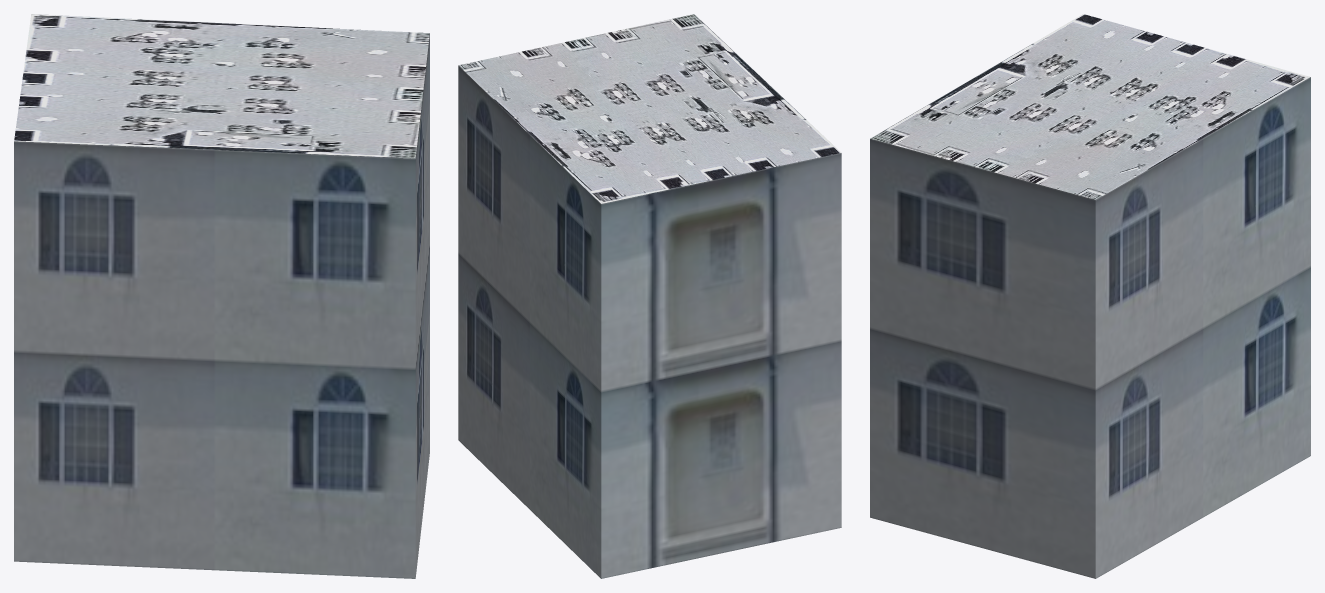
File: ResTex__2395.fbx
3 renders of one model, left to right at view 1: azimuth 30°, elevation 25°; view 2: azimuth 150°, elevation 25°; view 3: azimuth 270°, elevation 25°, orthographic. The views are drawn at different scales.
Visible parts, largest first — view 1: CityEngineMaterial_17_m, CityEngineMaterial_4_m; view 2: CityEngineMaterial_17_m, CityEngineMaterial_4_m; view 3: CityEngineMaterial_17_m, CityEngineMaterial_4_m.
Boxes of the visible parts, box(x1,y1,x2,y2) form: CityEngineMaterial_17_m: box(14, 34, 429, 578); CityEngineMaterial_4_m: box(14, 14, 429, 158); CityEngineMaterial_17_m: box(458, 65, 841, 578); CityEngineMaterial_4_m: box(459, 14, 841, 203); CityEngineMaterial_17_m: box(870, 77, 1310, 578); CityEngineMaterial_4_m: box(870, 14, 1310, 199).
Bounding box in the file's own units: 6.31 × 6 × 6.32.
2 materials, 2 textured.
